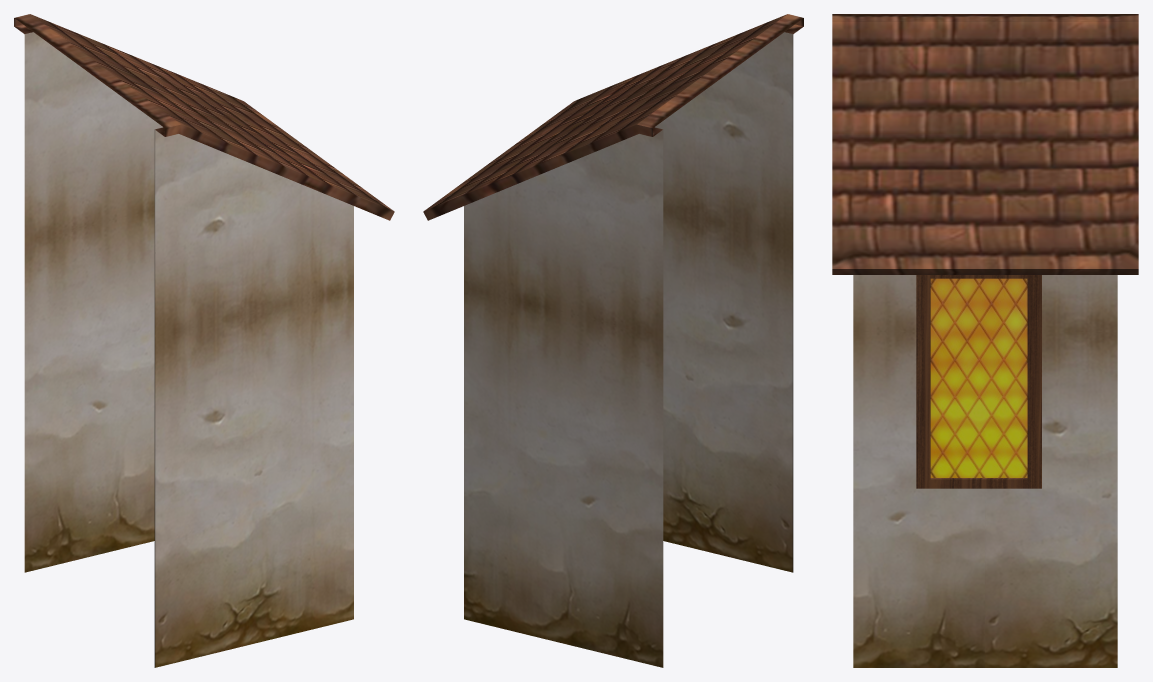
Rendered from House_Shit.fbx.
3 views of the same model, side by side, from view 1: azimuth 30°, elevation 25°; view 2: azimuth 150°, elevation 25°; view 3: azimuth 270°, elevation 25° (orthographic).
Visible parts, largest first — view 1: pCube13; view 2: pCube13; view 3: pCube13.
Boxes of the visible parts, box(x1,y1,x2,y2) form: pCube13: box(14, 14, 394, 667); pCube13: box(423, 14, 803, 667); pCube13: box(832, 14, 1138, 667).
Size of the model in its own units: 4.6 by 10.47 by 5.24.
